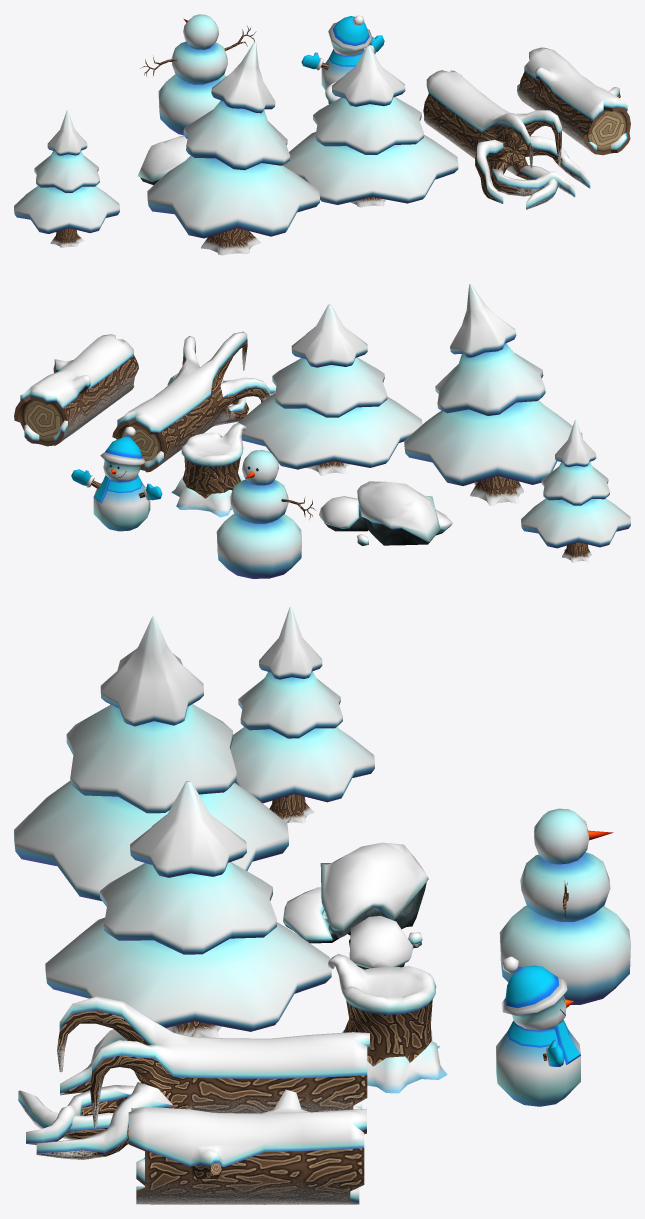
The model's file is Model pack 2.fbx.
3 views of the same model, one above another, from view 1: azimuth 30°, elevation 25°; view 2: azimuth 150°, elevation 25°; view 3: azimuth 270°, elevation 25° (orthographic). The views are drawn at different scales.
Parts seen in each view (by area): view 1: model pack 02.009, model pack 02.007, model pack 02.002, model pack 02.006, model pack 02.001, model pack 02.005, model pack 02.003, model pack 02.008; view 2: model pack 02.009, model pack 02.007, model pack 02.002, model pack 02.001, model pack 02.005, model pack 02.006, model pack 02.008, model pack 02.003, model pack 02.004; view 3: model pack 02.007, model pack 02.009, model pack 02.002, model pack 02.001, model pack 02.006, model pack 02.005, model pack 02.008, model pack 02.004, model pack 02.003.
Boxes of the visible parts, <box> form: model pack 02.009: <box>147,42,319,255</box>; model pack 02.007: <box>283,46,458,207</box>; model pack 02.002: <box>423,70,590,209</box>; model pack 02.006: <box>14,110,119,247</box>; model pack 02.001: <box>517,47,630,155</box>; model pack 02.005: <box>140,14,256,135</box>; model pack 02.003: <box>301,15,384,90</box>; model pack 02.008: <box>137,135,190,185</box>; model pack 02.009: <box>404,284,582,505</box>; model pack 02.007: <box>237,304,422,475</box>; model pack 02.002: <box>112,331,276,472</box>; model pack 02.001: <box>14,334,138,446</box>; model pack 02.005: <box>200,450,315,578</box>; model pack 02.006: <box>521,420,630,562</box>; model pack 02.008: <box>319,481,452,545</box>; model pack 02.003: <box>71,426,162,531</box>; model pack 02.004: <box>171,422,246,517</box>; model pack 02.007: <box>45,781,331,1037</box>; model pack 02.009: <box>14,616,288,901</box>; model pack 02.002: <box>18,996,369,1159</box>; model pack 02.001: <box>128,1089,366,1204</box>; model pack 02.006: <box>230,607,374,823</box>; model pack 02.005: <box>499,808,630,1004</box>; model pack 02.008: <box>283,842,428,969</box>; model pack 02.004: <box>328,954,447,1093</box>; model pack 02.003: <box>496,956,580,1106</box>.
Bounding box in the file's own units: 760 × 251 × 446.
Materials: 1 (1 with a texture image).
